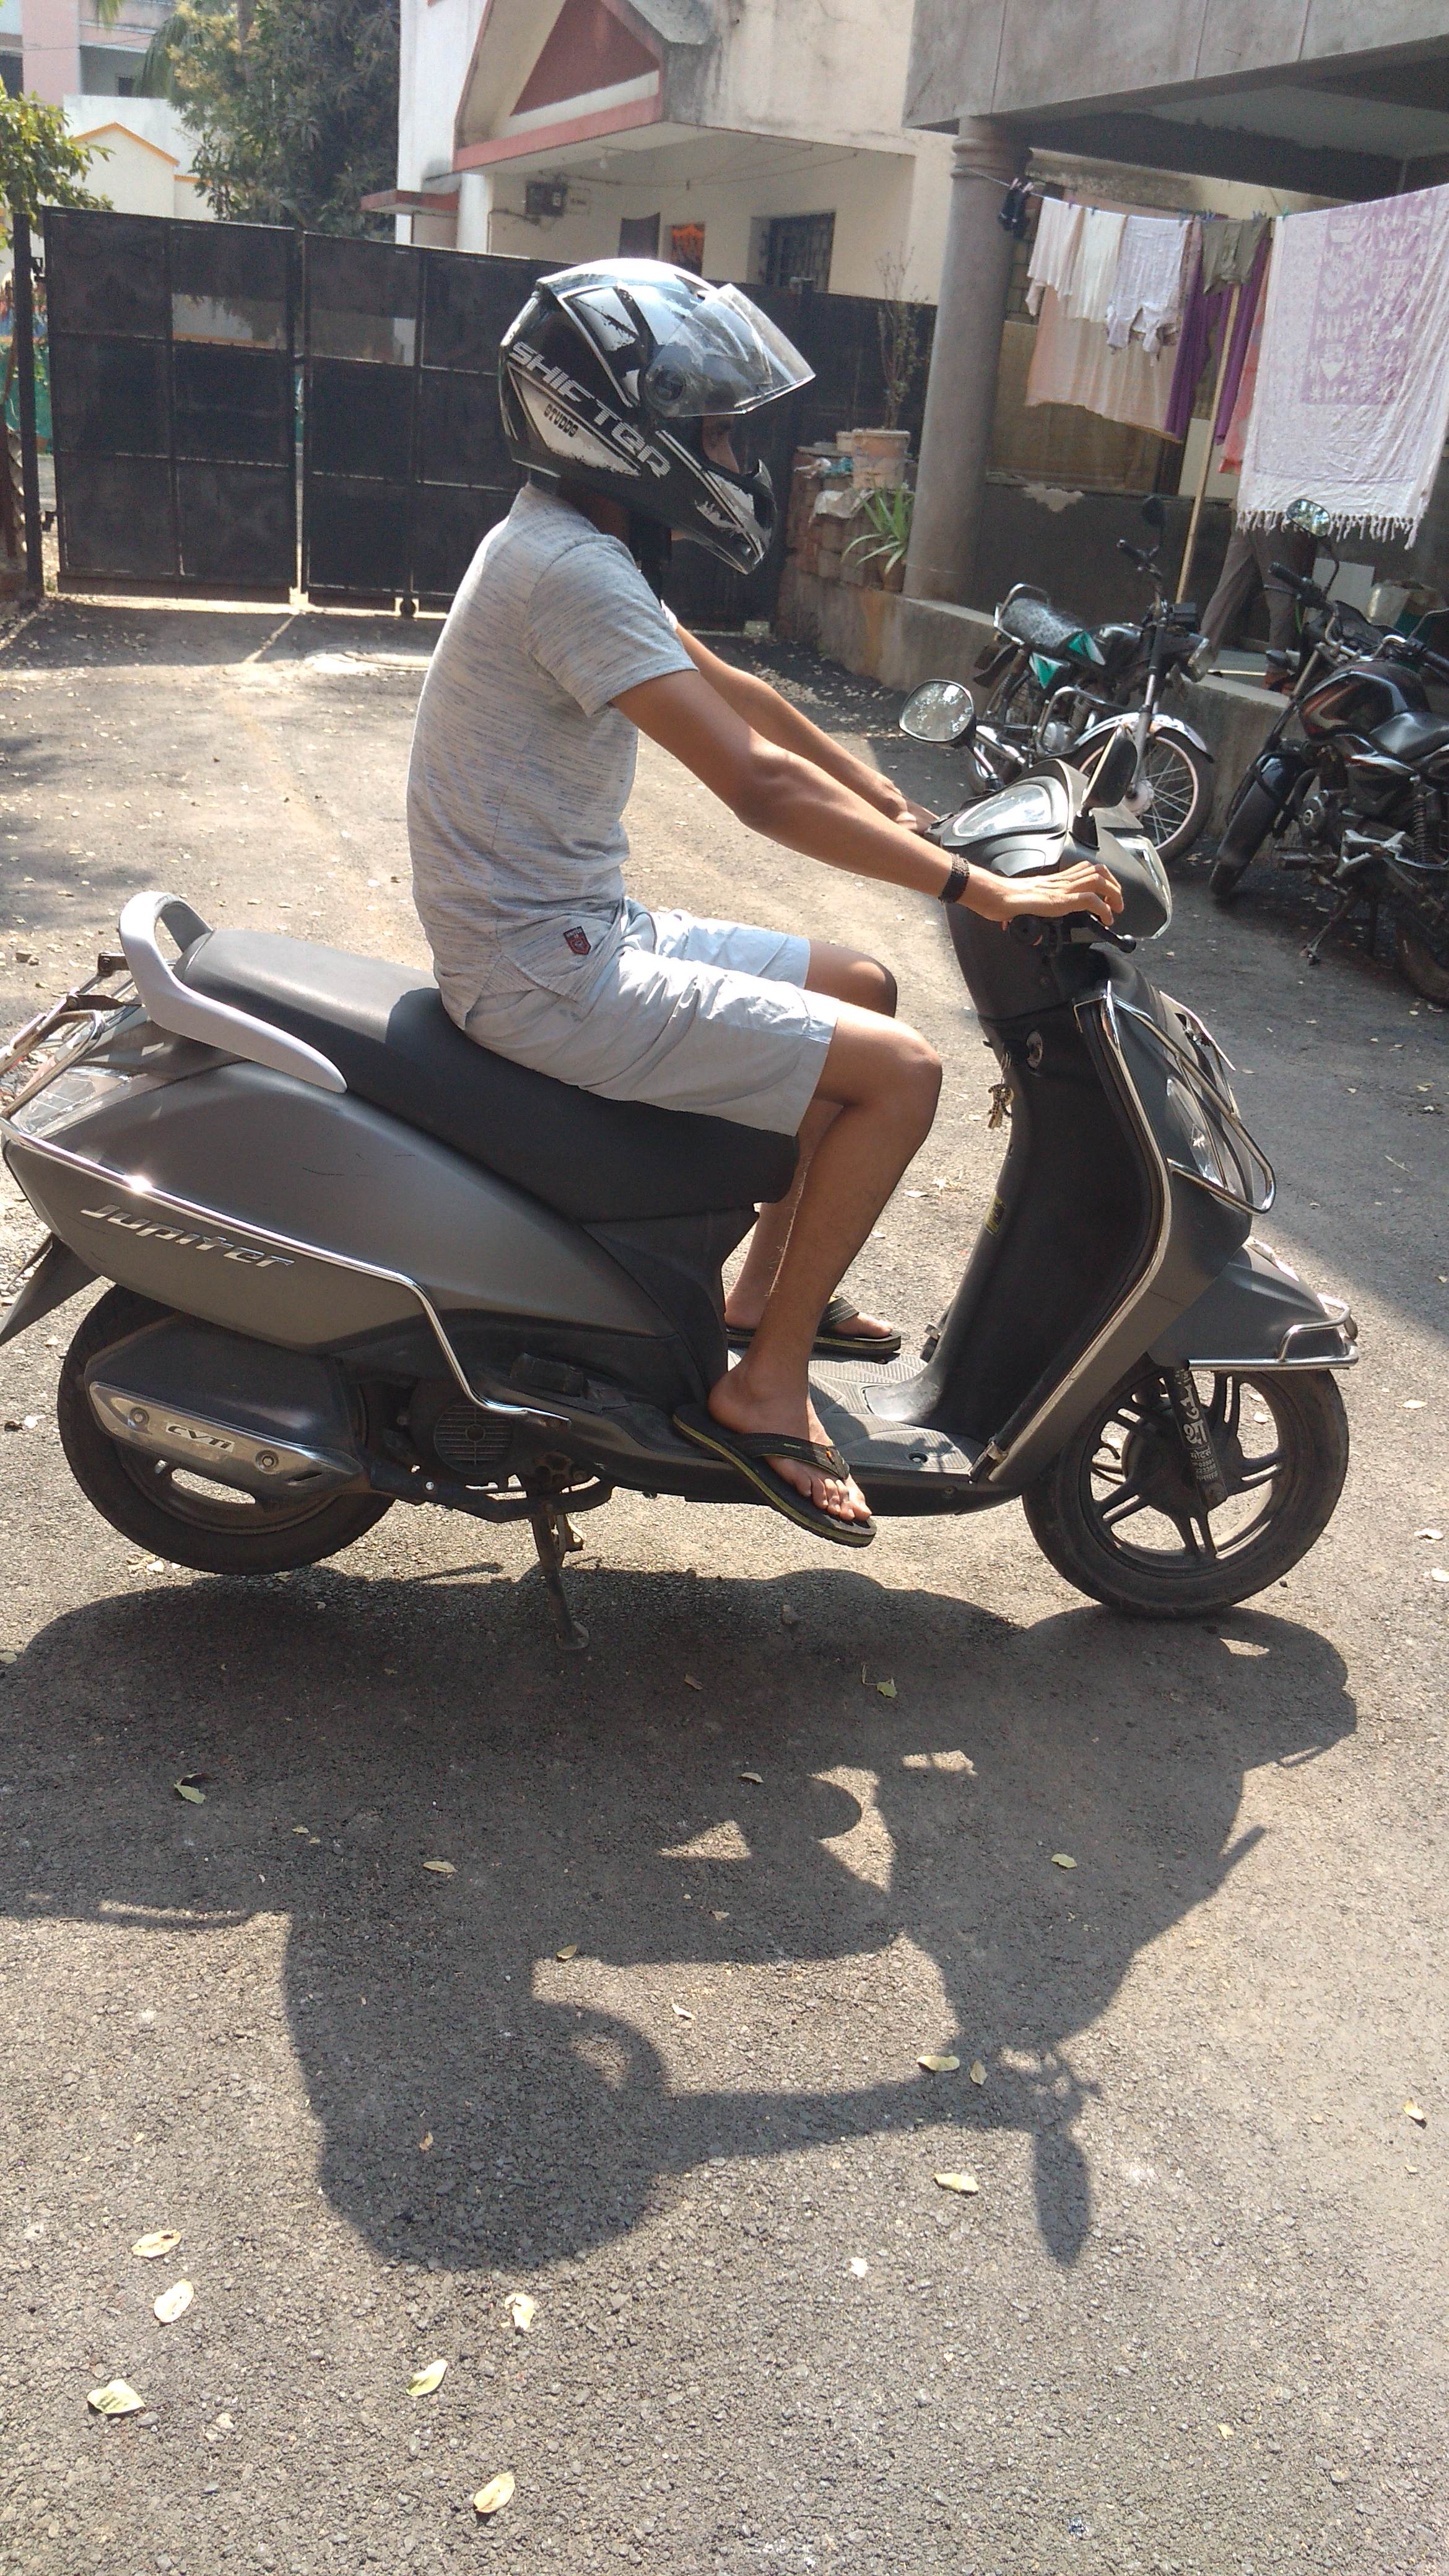helmet: (414, 223, 943, 1223)
